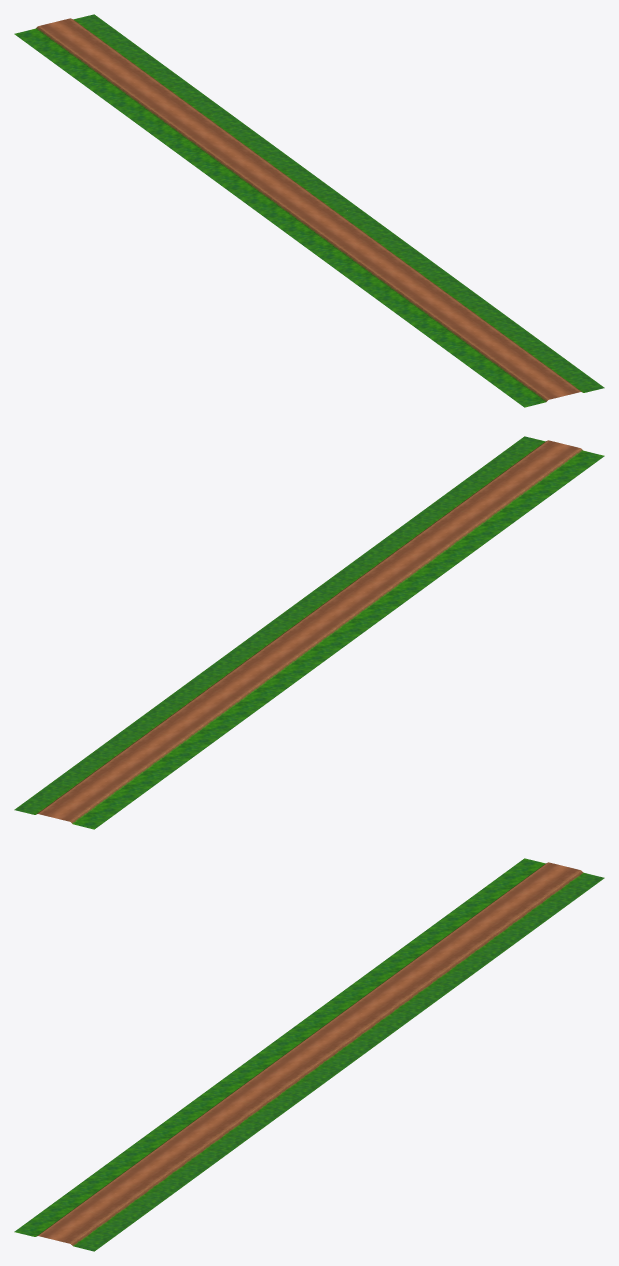
The model's file is Village_Roads 1.fbx.
3 renders of one model, top to bottom at view 1: azimuth 30°, elevation 25°; view 2: azimuth 150°, elevation 25°; view 3: azimuth 330°, elevation 25°, orthographic.
Visible parts, largest first — view 1: village_road_lo__2_, village_road_lo__16_, village_road_lo__12_, village_road_lo__10_, village_road_lo__21_, village_road_lo__6_, village_road_lo__14_, village_road_lo__19_, village_road_lo__25_, village_road_lo__1_, village_road_lo__3_, village_road_lo__11_ (+15 smaller); view 2: village_road_lo__4_, village_road_lo__19_, village_road_lo__18_, village_road_lo__23_, village_road_lo__14_, village_road_lo__21_, village_road_lo, village_road_lo__16_, village_road_lo__5_, village_road_lo__8_, village_road_lo__13_, village_road_lo__15_ (+15 smaller); view 3: village_road_lo__16_, village_road_lo__2_, village_road_lo__12_, village_road_lo__1_, village_road_lo__10_, village_road_lo__21_, village_road_lo__5_, village_road_lo__20_, village_road_lo__14_, village_road_lo__11_, village_road_lo__19_, village_road_lo__25_ (+15 smaller).
Boxes of the visible parts, left/top/right/bottom form: village_road_lo__2_: left=241, top=180, right=339, bottom=213; village_road_lo__16_: left=165, top=125, right=264, bottom=158; village_road_lo__12_: left=90, top=69, right=188, bottom=102; village_road_lo__10_: left=14, top=14, right=112, bottom=47; village_road_lo__21_: left=392, top=291, right=490, bottom=324; village_road_lo__6_: left=317, top=236, right=415, bottom=269; village_road_lo__14_: left=128, top=97, right=226, bottom=130; village_road_lo__19_: left=354, top=263, right=453, bottom=296; village_road_lo__25_: left=468, top=346, right=566, bottom=379; village_road_lo__1_: left=222, top=166, right=320, bottom=199; village_road_lo__3_: left=260, top=194, right=358, bottom=227; village_road_lo__11_: left=71, top=56, right=169, bottom=89; village_road_lo__4_: left=279, top=602, right=377, bottom=635; village_road_lo__19_: left=354, top=547, right=453, bottom=580; village_road_lo__18_: left=506, top=436, right=604, bottom=469; village_road_lo__23_: left=430, top=491, right=528, bottom=524; village_road_lo__14_: left=128, top=713, right=226, bottom=746; village_road_lo__21_: left=392, top=519, right=490, bottom=552; village_road_lo: left=203, top=658, right=301, bottom=691; village_road_lo__16_: left=165, top=685, right=264, bottom=718; village_road_lo__5_: left=298, top=588, right=396, bottom=621; village_road_lo__8_: left=52, top=768, right=150, bottom=801; village_road_lo__13_: left=109, top=727, right=207, bottom=760; village_road_lo__15_: left=146, top=699, right=244, bottom=732; village_road_lo__16_: left=354, top=969, right=453, bottom=1002; village_road_lo__2_: left=279, top=1024, right=377, bottom=1057; village_road_lo__12_: left=430, top=913, right=528, bottom=946; village_road_lo__1_: left=298, top=1010, right=396, bottom=1043; village_road_lo__10_: left=506, top=858, right=604, bottom=891; village_road_lo__21_: left=128, top=1135, right=226, bottom=1168; village_road_lo__5_: left=222, top=1066, right=320, bottom=1099; village_road_lo__20_: left=146, top=1121, right=244, bottom=1154; village_road_lo__14_: left=392, top=941, right=490, bottom=974; village_road_lo__11_: left=449, top=900, right=547, bottom=933; village_road_lo__19_: left=165, top=1107, right=264, bottom=1140; village_road_lo__25_: left=52, top=1190, right=150, bottom=1223.
Size of the model in its own units: 11198 by 250 by 123120.
1 material, 1 textured.
